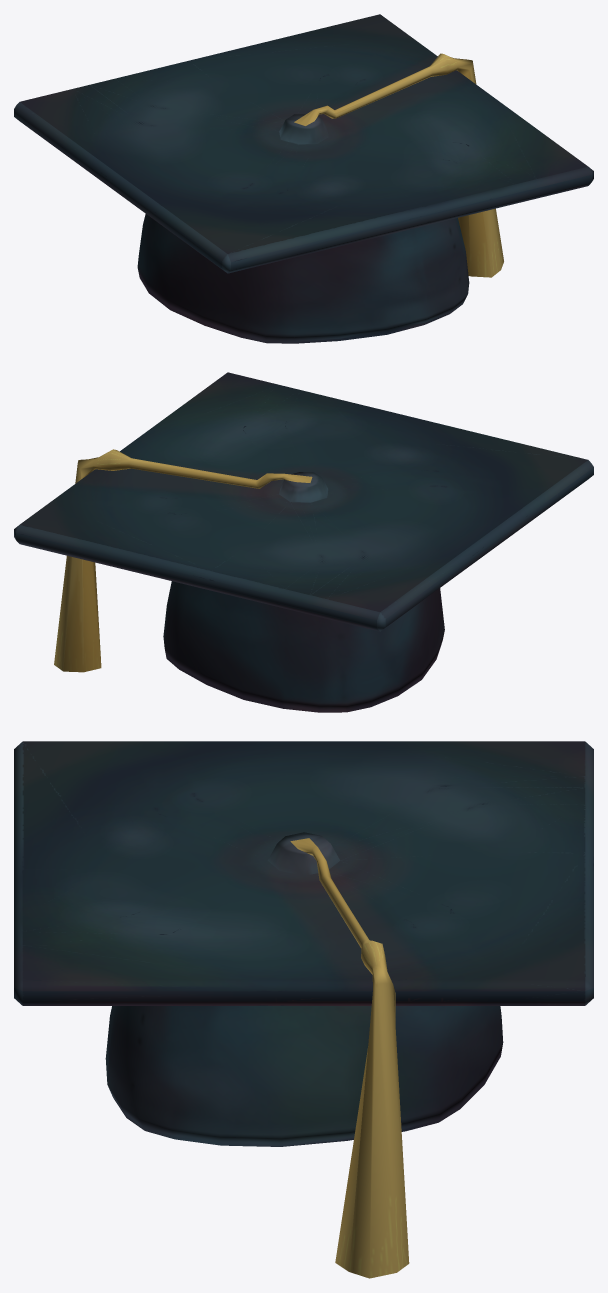
File: mortarboard.gltf
3 views of the same model, one above another, from view 1: azimuth 30°, elevation 25°; view 2: azimuth 150°, elevation 25°; view 3: azimuth 270°, elevation 25° (orthographic). The views are drawn at different scales.
Parts seen in each view (by area): view 1: pCube1; view 2: pCube1; view 3: pCube1.
Part boxes in pixels (bbox=[...]): pCube1: bbox=[14, 14, 593, 343]; pCube1: bbox=[14, 372, 593, 712]; pCube1: bbox=[14, 741, 593, 1278].
Size of the model in its own units: 0.2208 by 0.1141 by 0.2.
1 material, 1 textured.
